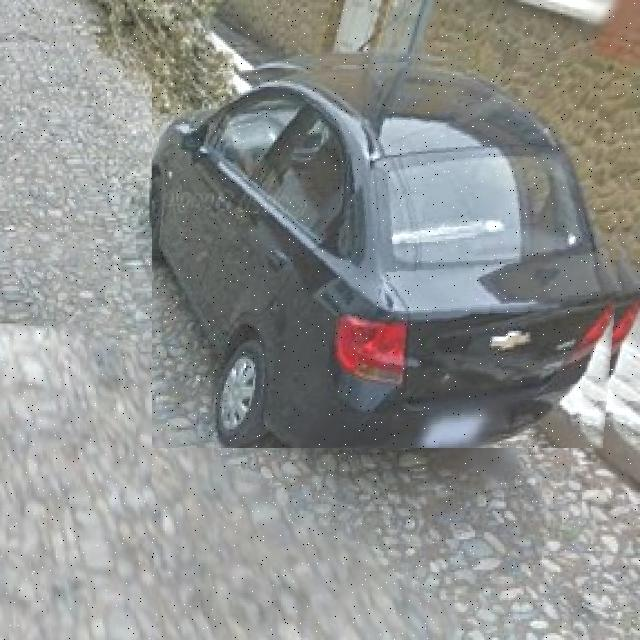car: (153, 51, 639, 449)
